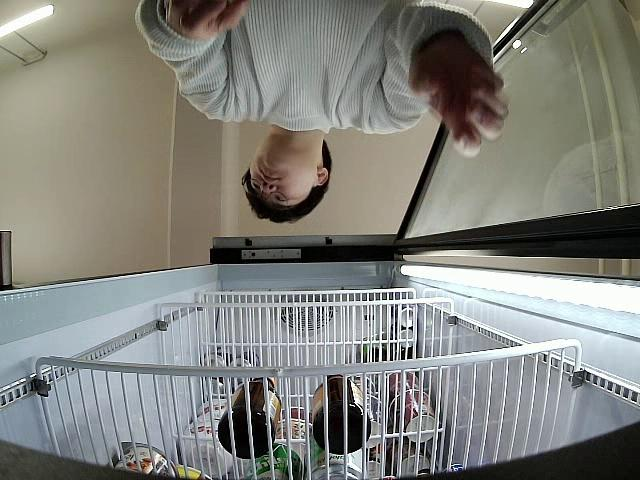00_hand: (408, 40, 508, 159), (161, 0, 248, 40)
